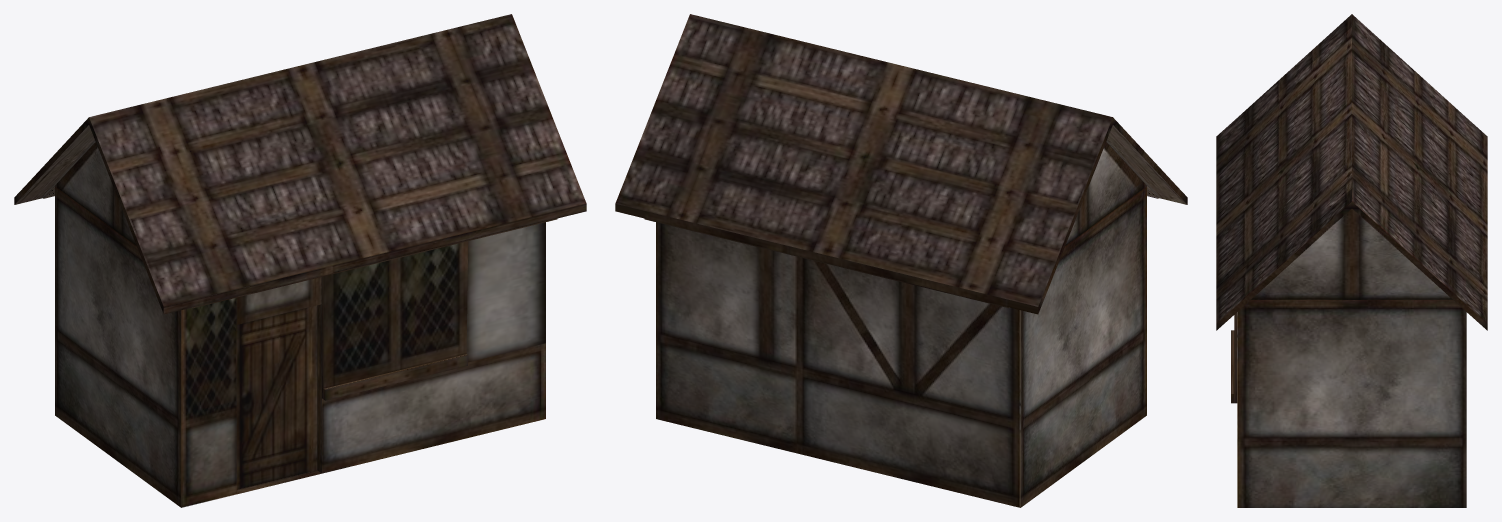
Rendered from casa.FBX.
3 renders of one model, left to right at view 1: azimuth 30°, elevation 25°; view 2: azimuth 150°, elevation 25°; view 3: azimuth 270°, elevation 25°, orthographic. The views are drawn at different scales.
Parts seen in each view (by area): view 1: Box006; view 2: Box006; view 3: Box006.
Part boxes in pixels (bbox=[...]): Box006: bbox=[14, 14, 586, 507]; Box006: bbox=[615, 14, 1187, 507]; Box006: bbox=[1216, 14, 1487, 507].
Bounding box in the file's own units: 36.86 × 29.29 × 22.56.
1 material, 1 textured.
